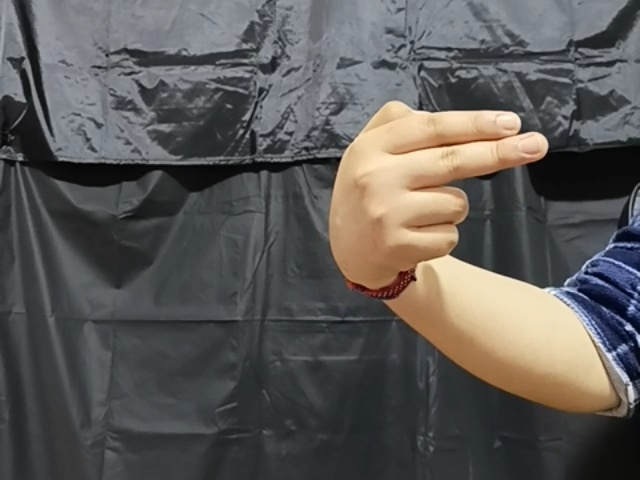H: (320, 97, 551, 274)
